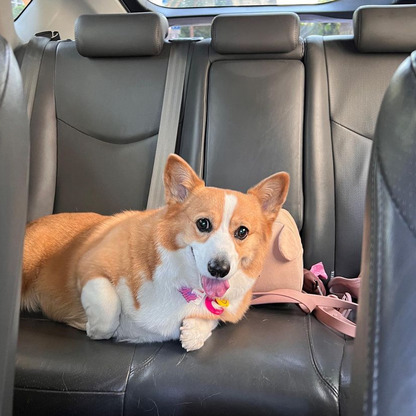Corgi: (24, 143, 295, 362)
